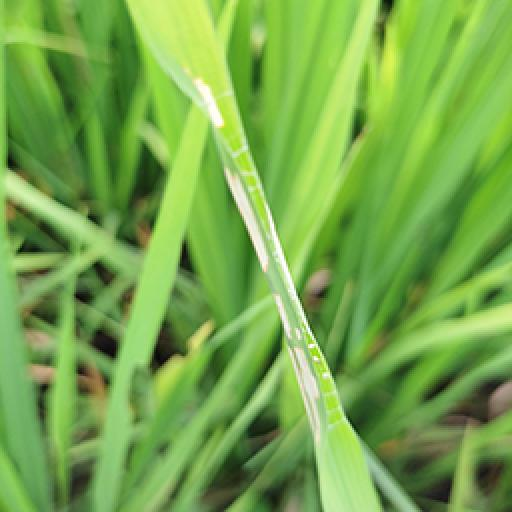Bacterial Leaf Blight: (264, 286, 364, 444), (212, 150, 312, 272), (170, 64, 260, 142)
